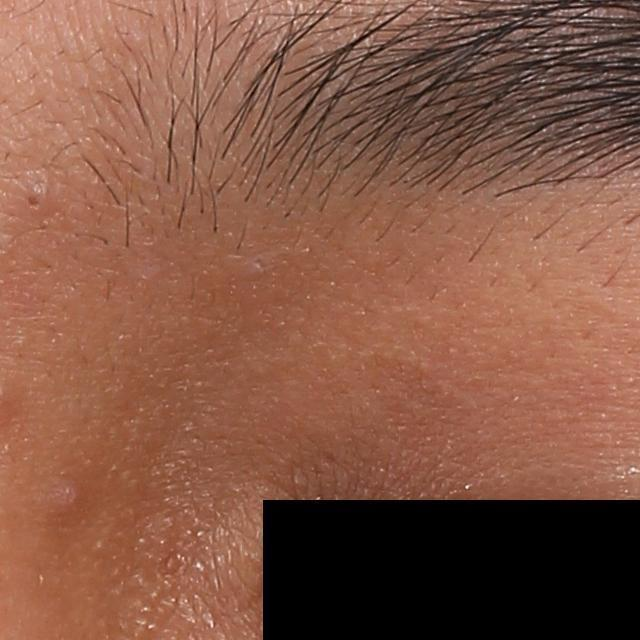comedo: (10, 177, 58, 218)
papule: (43, 474, 93, 520)
